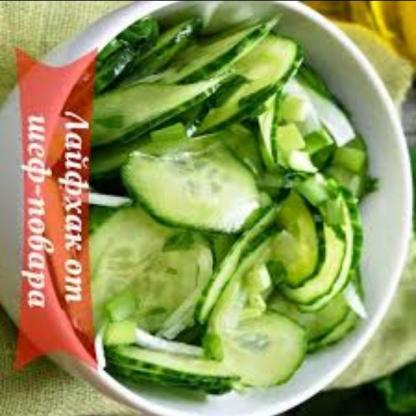cucumber: (128, 29, 373, 369)
